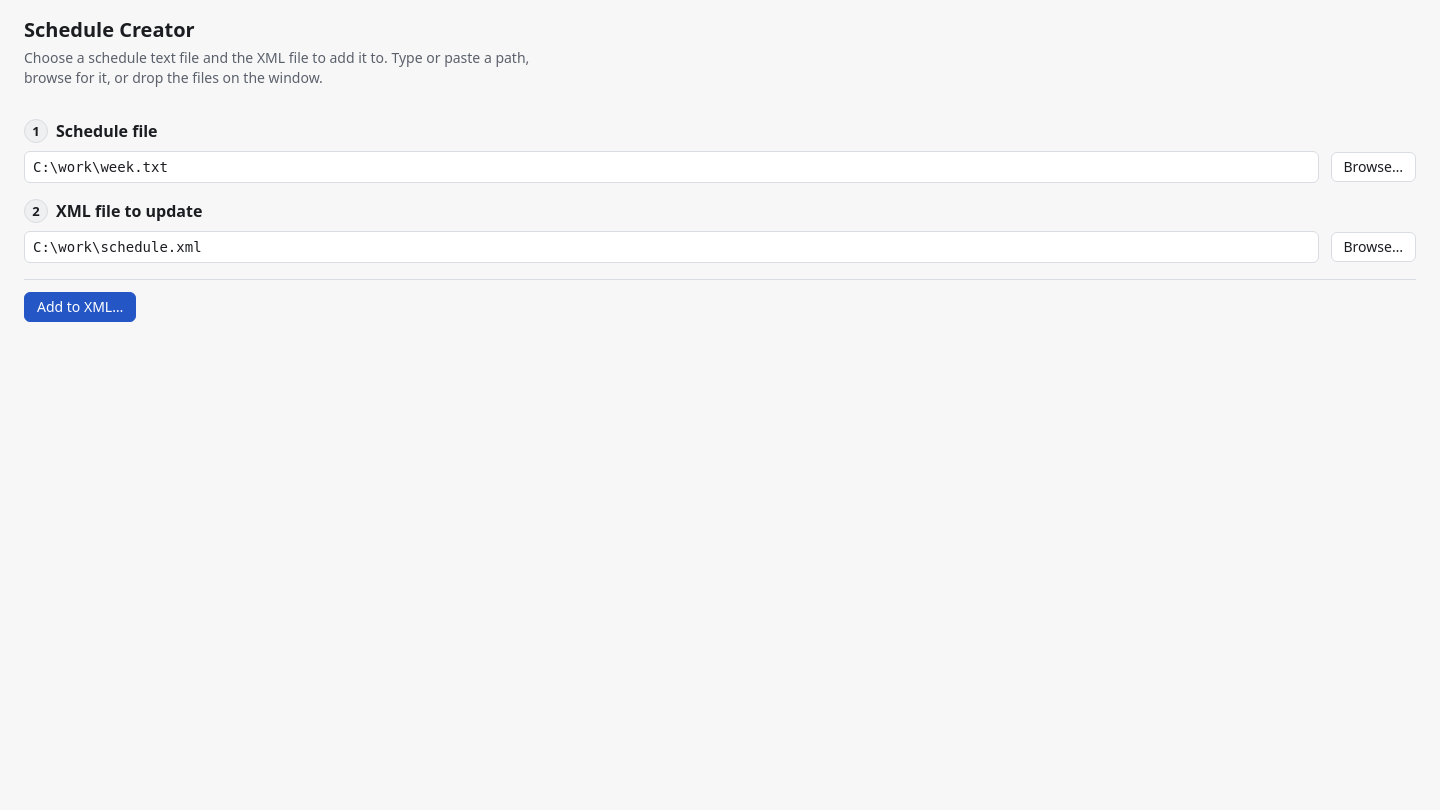
Test: the stub hooks say they are not implemented
Expected: the field labelled "Schedule file" is shown, [24, 151, 1318, 183]
Click the button "Add to XML…".
click(80, 307)  # box [24, 292, 136, 322]
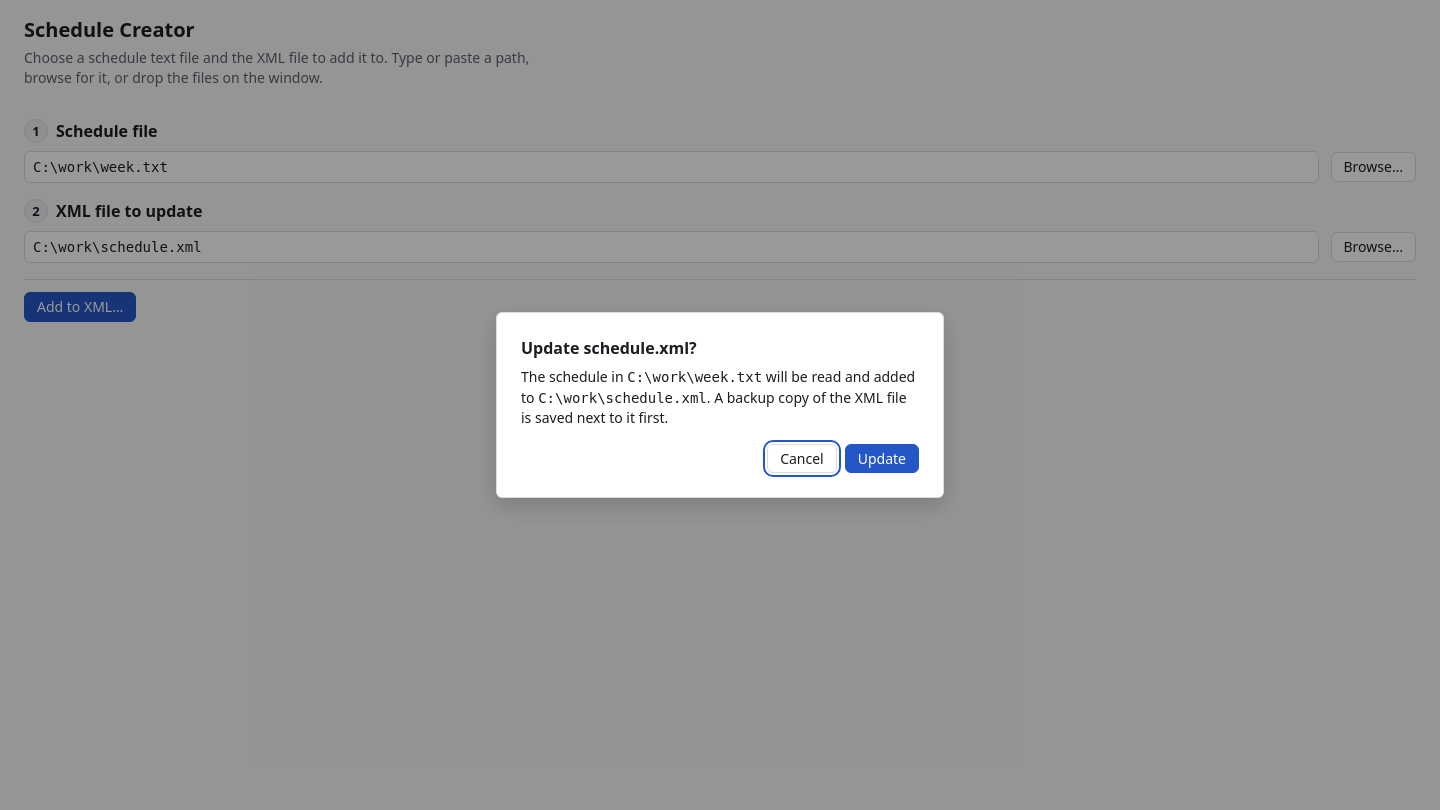
Click the button "Update".
click(882, 459)  # box [845, 444, 919, 473]
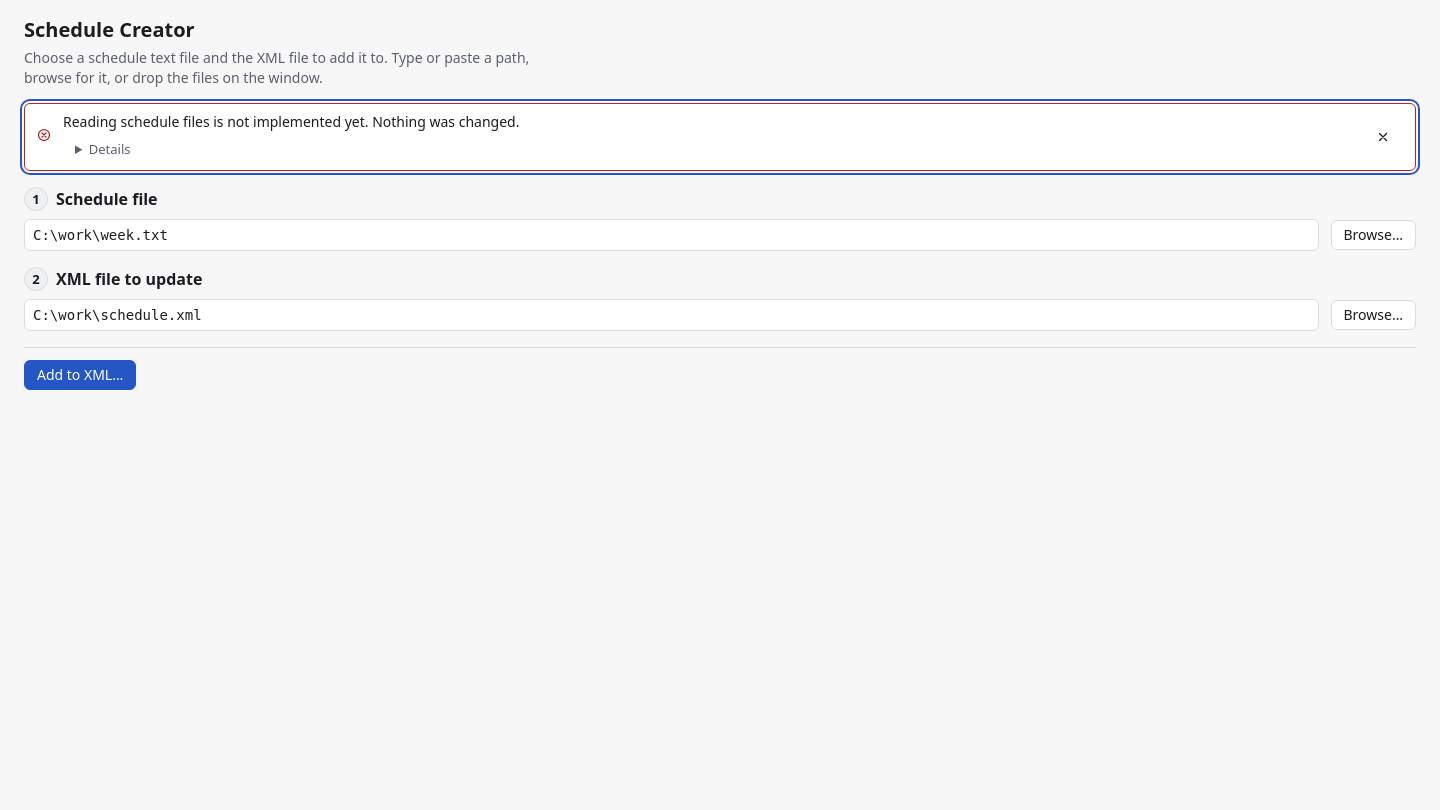
Expected: the message shows "Reading schedule files is not implemented yet. Nothing was changed.", [63, 112, 520, 131]
